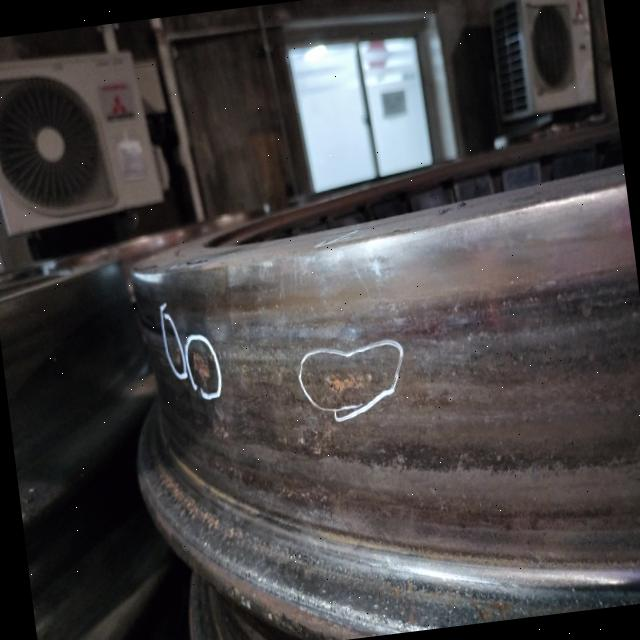Blue hole: (191, 350, 217, 391), (167, 343, 185, 369)
Peeling: (319, 364, 385, 404)
